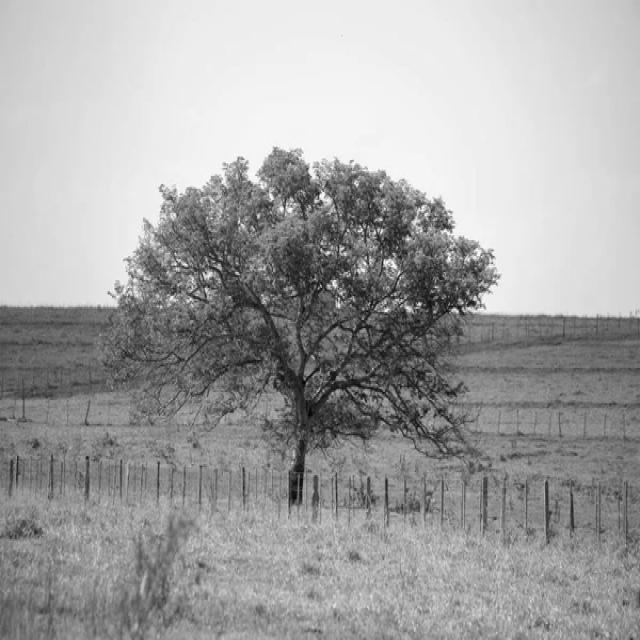Tree: (100, 148, 497, 486)
